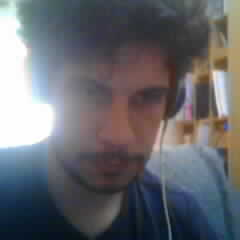without_mask: (55, 36, 169, 194)
